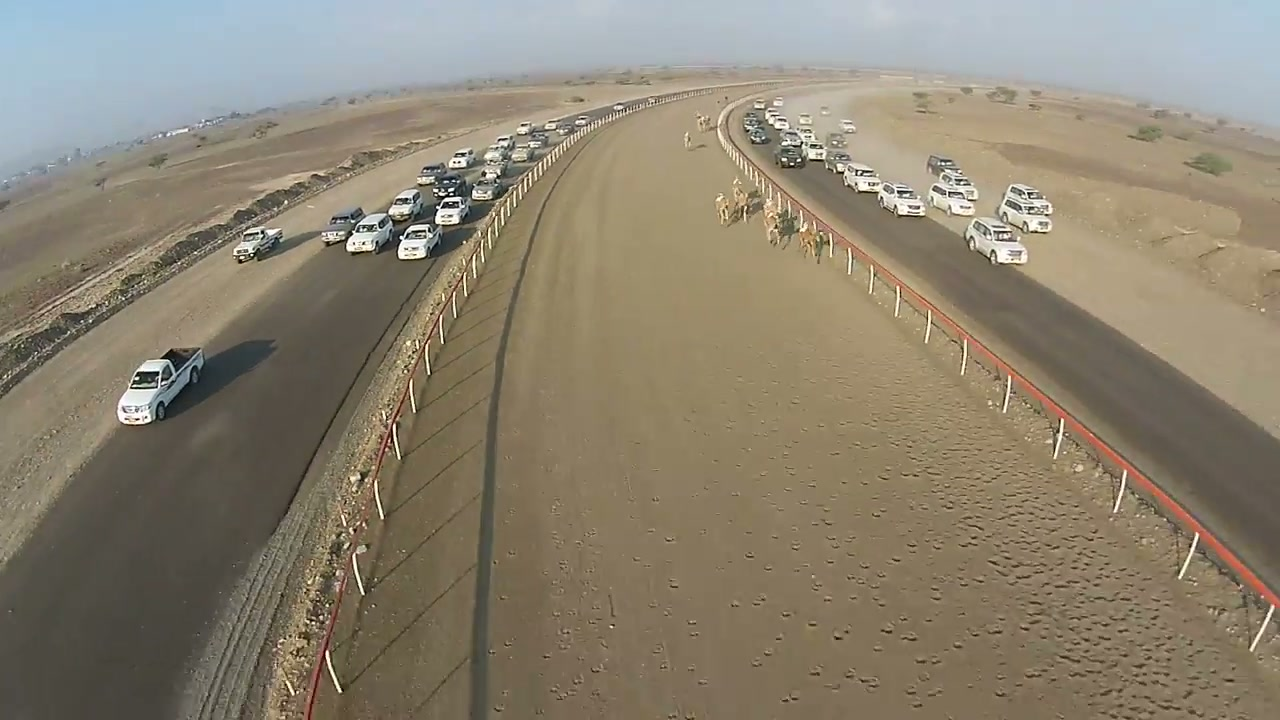animal_foot_print: (853, 346, 1244, 717), (768, 442, 1019, 718)
